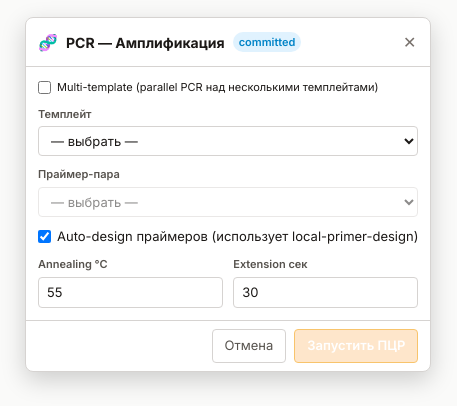
K6 — PCROpPopup › auto-design checkbox toggles + disables primer pair select
expect the dropdown with test id "pcr-op-primer-pair" is disabled: met, box top-left (38, 186), bottom-right (418, 216)
What coordinates should you click on to do the following:
click the checkbox with test id "pcr-op-auto-design"
I would click on:
 (44, 236)
Its box is top-left (38, 230), bottom-right (51, 243).
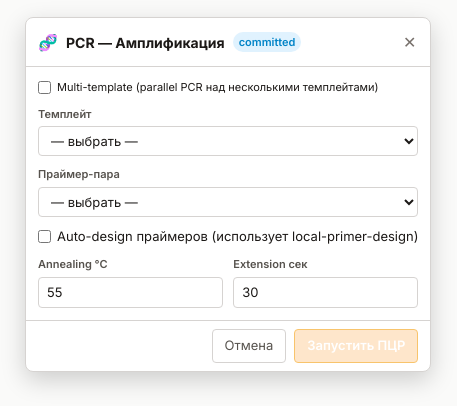
expect the checkbox with test id "pcr-op-auto-design" is not checked: met, box top-left (38, 230), bottom-right (51, 243)
expect the dropdown with test id "pcr-op-primer-pair" is enabled: met, box top-left (38, 186), bottom-right (418, 216)
